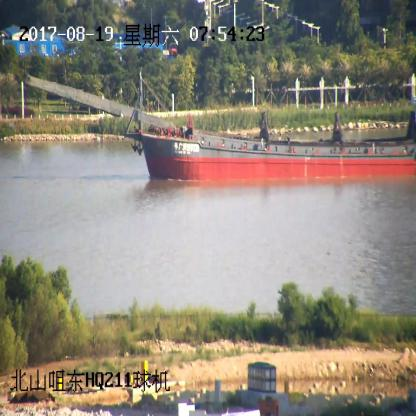Bulk Carrier: (26, 76, 416, 186)
